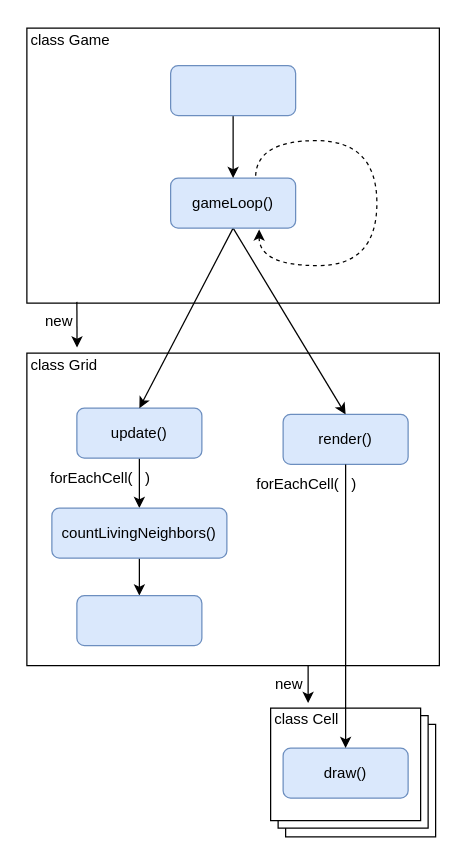
Image size: 461x859. Some labels were removed from this diagram. Here are the shapes that lost their labels. From the top down, the centre of each, then its label:
At (x=232, y=90): "start()".
At (x=139, y=620): "isAlive()".
